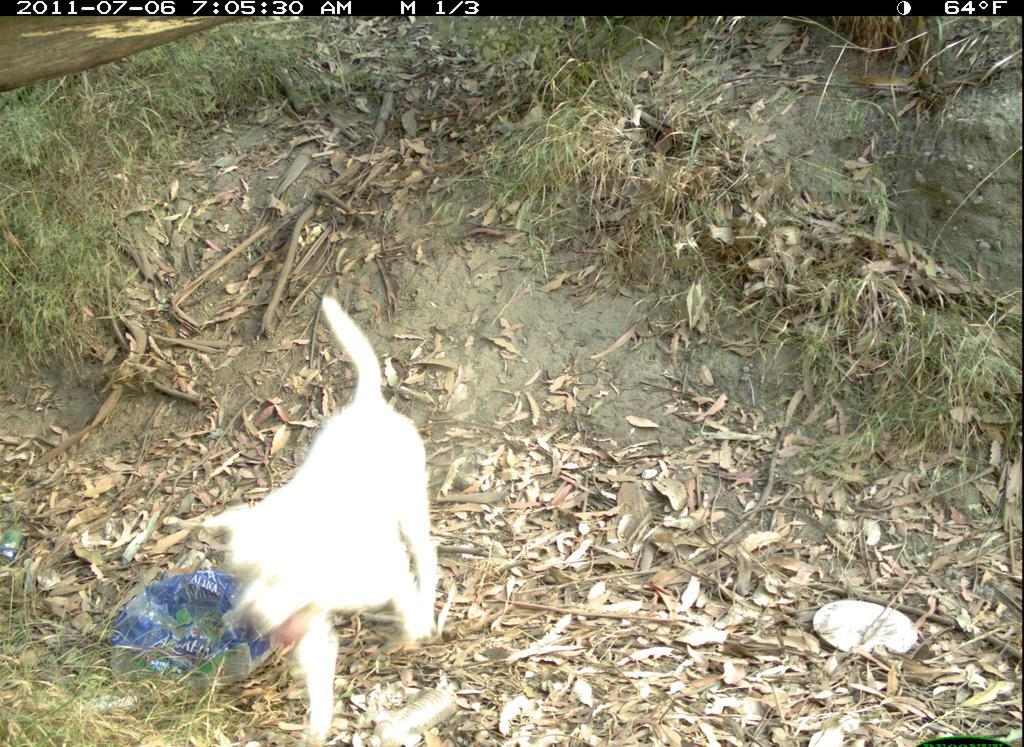dog: (186, 295, 465, 742)
